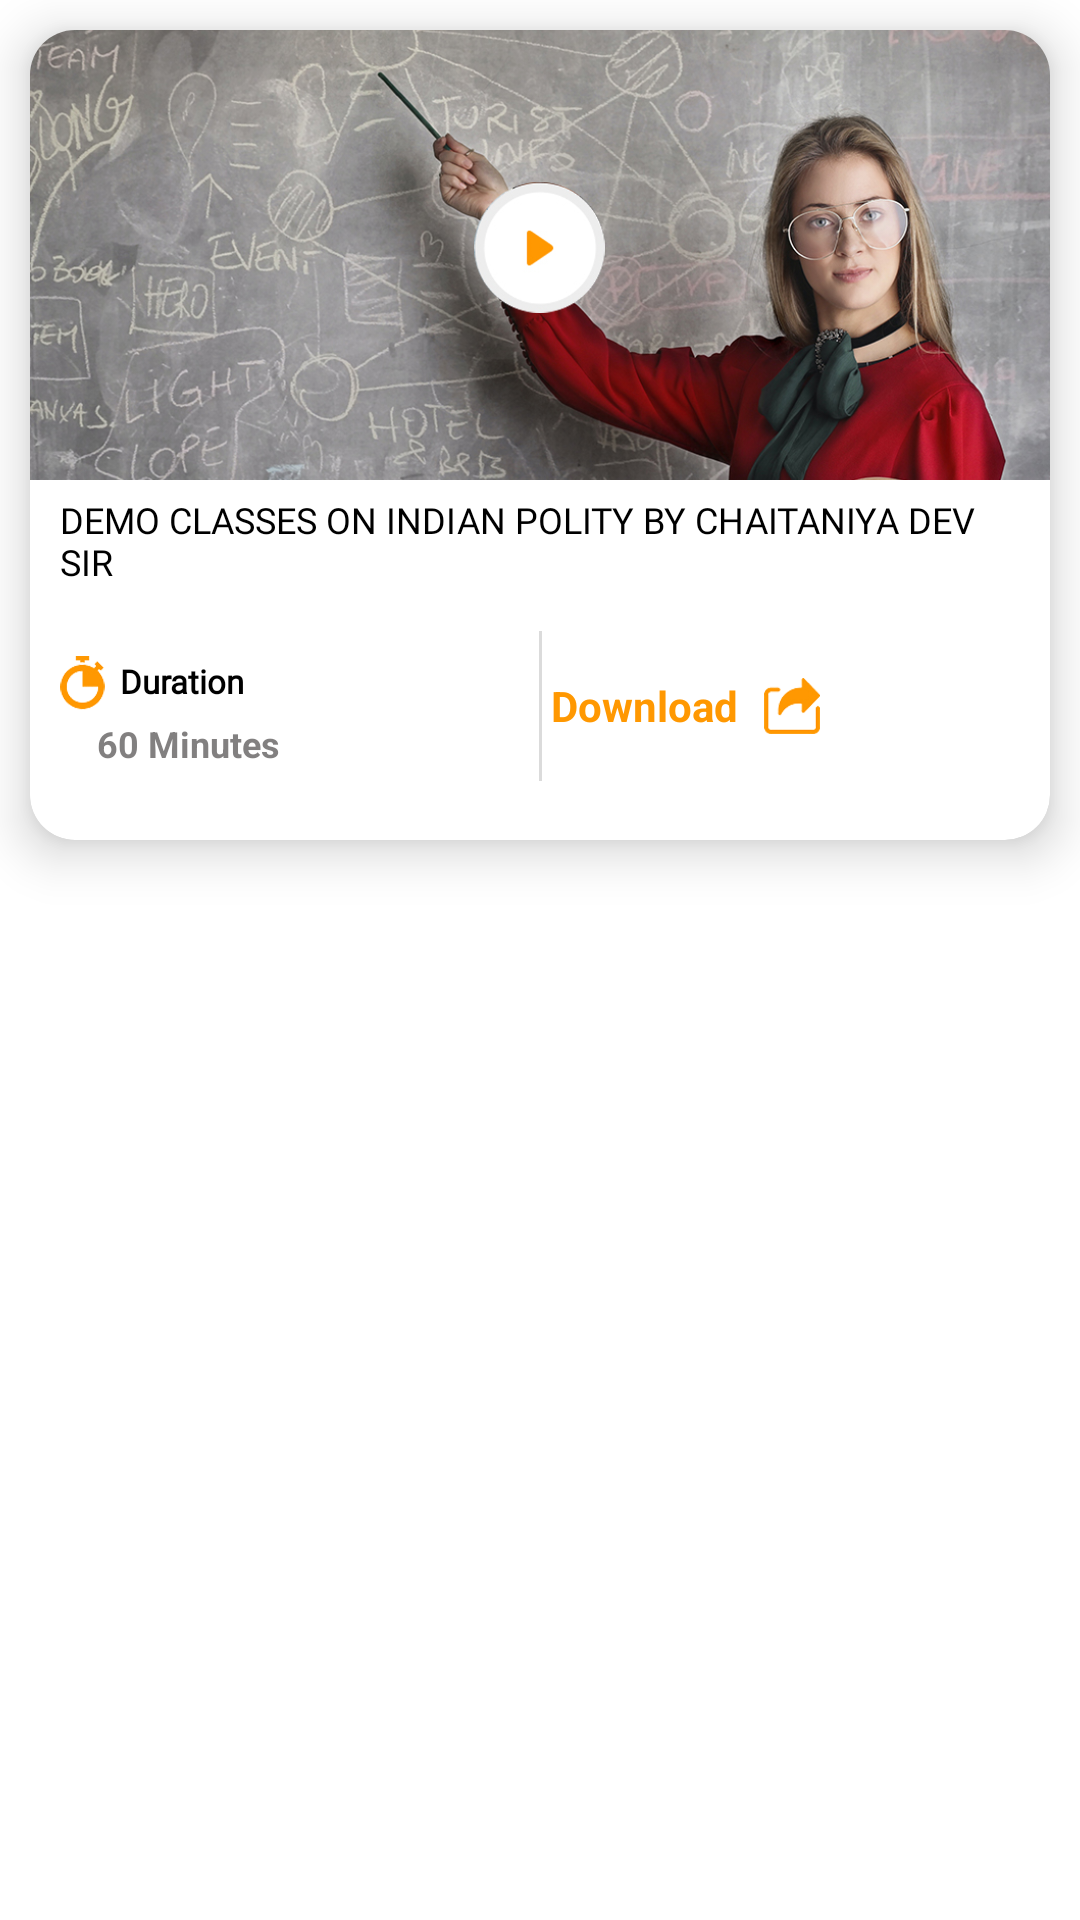

Point at icon controls on the screen. Image size 1080x1920, points as point (x, y).
playbtnnew: point (539, 247)
sharenew: point (792, 706)
